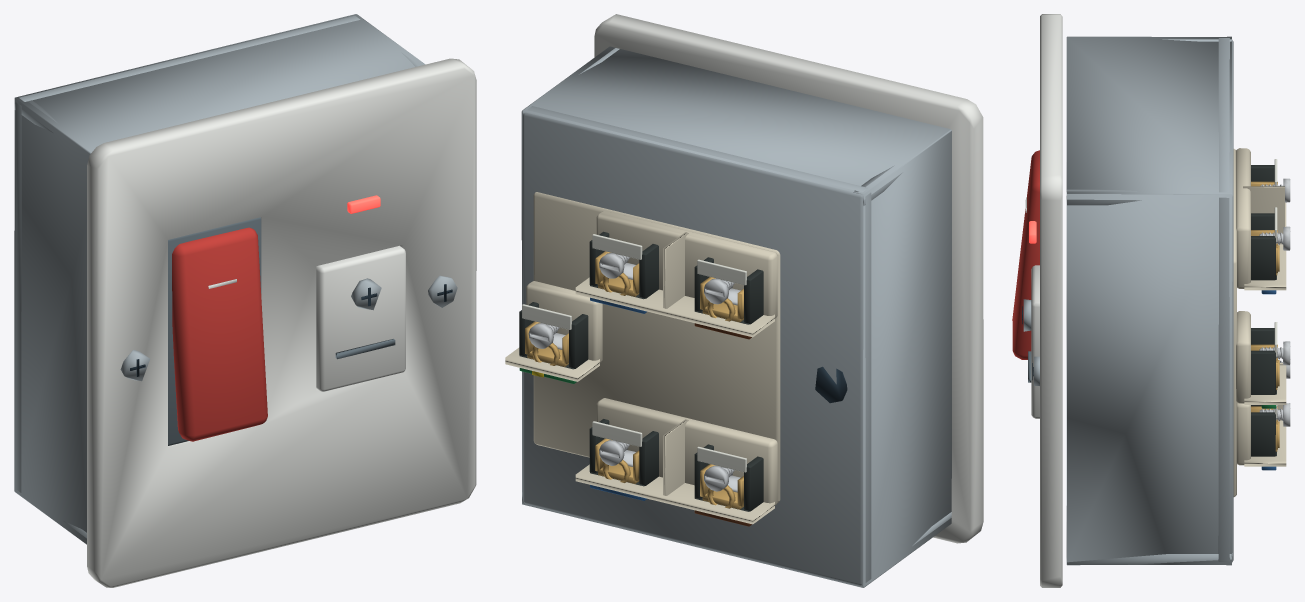
Rendered from fcu_default.low.glb.
3 renders of one model, left to right at view 1: azimuth 30°, elevation 25°; view 2: azimuth 150°, elevation 25°; view 3: azimuth 270°, elevation 25°, orthographic. The views are drawn at different scales.
Visible parts, largest first — view 1: part:cover, part:body · Original 2a8198d3, motion:rocker, part:fuse, part:actuator, part:cover · Original 2a8198d3; view 2: part:body · Original 2a8198d3, part:terminals · Original 5a609f27, part:cover, detail:terminal-clamp:NIN · Detail moulded engineering polym, detail:terminal-clamp:NOUT · Detail moulded engineering poly, detail:terminal-clamp:LIN · Detail moulded engineering polym, detail:terminal-clamp:LOUT · Detail moulded engineering poly, detail:terminal-clamp:PE · Detail moulded engineering polyme, detail:terminal-clamp:NOUT · Detail machined brass, detail:terminal-clamp:NIN · Detail machined brass, detail:terminal-clamp:LIN · Detail machined brass, detail:terminal-clamp:LOUT · Detail machined brass (+12 smaller); view 3: part:body · Original 2a8198d3, part:cover, part:terminals · Original 5a609f27, motion:rocker, part:fuse, detail:terminal-clamp:NIN · Detail moulded engineering polym, detail:terminal-clamp:PE · Detail moulded engineering polyme, detail:terminal-clamp:NOUT · Detail moulded engineering poly, detail:terminal-clamp:LIN · Detail moulded engineering polym.
Boxes of the visible parts, bbox=[...] form: part:cover: bbox=[87, 58, 476, 587]; part:body · Original 2a8198d3: bbox=[14, 14, 425, 544]; motion:rocker: bbox=[172, 227, 267, 441]; part:fuse: bbox=[316, 245, 405, 391]; part:actuator: bbox=[168, 217, 261, 445]; part:cover · Original 2a8198d3: bbox=[120, 275, 457, 381]; part:body · Original 2a8198d3: bbox=[521, 46, 951, 587]; part:terminals · Original 5a609f27: bbox=[505, 192, 780, 524]; part:cover: bbox=[594, 14, 983, 543]; detail:terminal-clamp:NIN · Detail moulded engineering polym: bbox=[589, 231, 658, 299]; detail:terminal-clamp:NOUT · Detail moulded engineering poly: bbox=[589, 419, 658, 486]; detail:terminal-clamp:LIN · Detail moulded engineering polym: bbox=[694, 257, 763, 324]; detail:terminal-clamp:LOUT · Detail moulded engineering poly: bbox=[694, 444, 763, 511]; detail:terminal-clamp:PE · Detail moulded engineering polyme: bbox=[519, 302, 588, 369]; detail:terminal-clamp:NOUT · Detail machined brass: bbox=[595, 438, 639, 483]; detail:terminal-clamp:NIN · Detail machined brass: bbox=[595, 251, 639, 296]; detail:terminal-clamp:LIN · Detail machined brass: bbox=[700, 277, 743, 322]; detail:terminal-clamp:LOUT · Detail machined brass: bbox=[700, 464, 743, 509]; part:body · Original 2a8198d3: bbox=[1066, 36, 1233, 565]; part:cover: bbox=[1040, 14, 1062, 587]; part:terminals · Original 5a609f27: bbox=[1233, 148, 1286, 496]; motion:rocker: bbox=[1012, 150, 1039, 359]; part:fuse: bbox=[1023, 265, 1039, 418]; detail:terminal-clamp:NIN · Detail moulded engineering polym: bbox=[1251, 213, 1276, 280]; detail:terminal-clamp:PE · Detail moulded engineering polyme: bbox=[1251, 328, 1276, 394]; detail:terminal-clamp:NOUT · Detail moulded engineering poly: bbox=[1251, 405, 1276, 456]; detail:terminal-clamp:LIN · Detail moulded engineering polym: bbox=[1251, 165, 1274, 181].
Size of the model in its own units: 0.8902 by 0.9795 by 0.5987.
